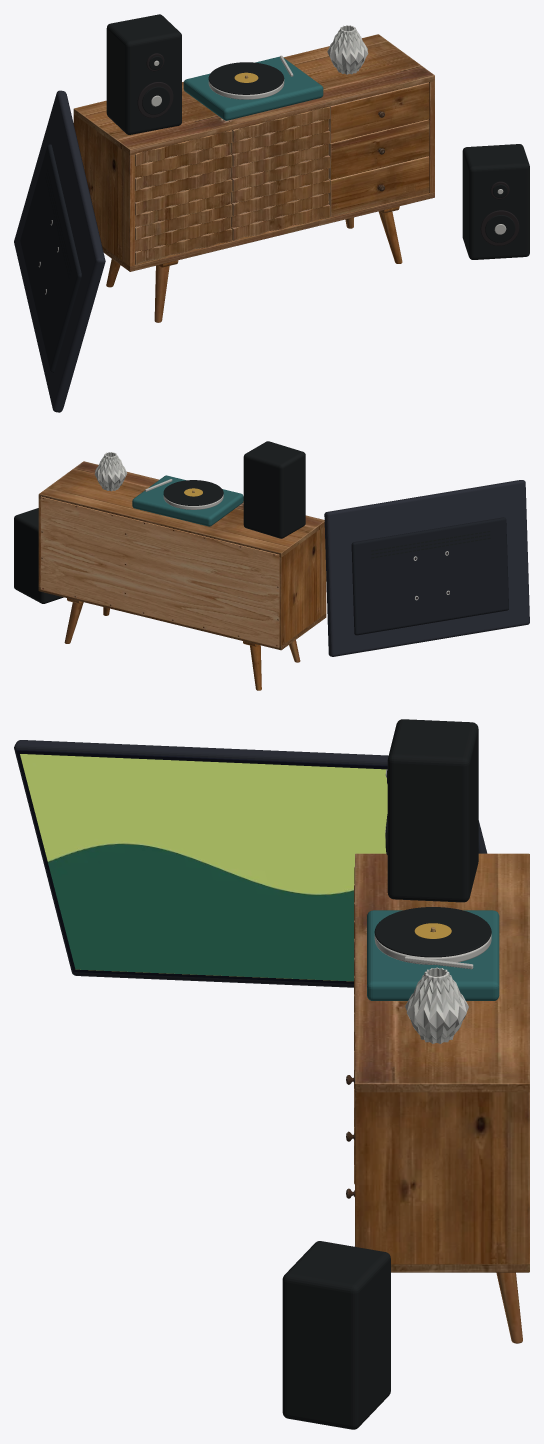
Rendered from listening.glb.
3 views of the same model, one above another, from view 1: azimuth 30°, elevation 25°; view 2: azimuth 150°, elevation 25°; view 3: azimuth 270°, elevation 25° (orthographic). The views are drawn at different scales.
Visible parts, largest first — view 1: Sideboard, TV / graphite frame.003, TV / rear enclosure.003, Monitor cabinet, Monitor cabinet.001, Turntable plinth, Vinyl, Vase, Driver cone.002, Driver cone, Driver surround.002; view 2: Sideboard, TV / graphite frame.003, TV / rear enclosure.003, Monitor cabinet, Monitor cabinet.001, Turntable plinth, Vinyl, Vase, TV / cooling louvres.003; view 3: Sideboard, TV / active picture.006, TV / active picture.007, Monitor cabinet.001, Monitor cabinet, TV / graphite frame.003, Turntable plinth, Vinyl, TV / glass surround.003, Vase.
Part boxes in pixels (x1,y1,x2,y2): Sideboard: [73, 34, 434, 322]; TV / graphite frame.003: [14, 90, 105, 412]; TV / rear enclosure.003: [20, 144, 81, 372]; Monitor cabinet: [106, 14, 181, 134]; Monitor cabinet.001: [462, 144, 529, 259]; Turntable plinth: [183, 56, 323, 120]; Vinyl: [208, 62, 284, 94]; Vase: [327, 25, 368, 74]; Driver cone.002: [485, 215, 515, 242]; Driver cone: [142, 86, 169, 114]; Driver surround.002: [480, 210, 519, 245]; Sideboard: [38, 461, 326, 690]; TV / graphite frame.003: [324, 480, 529, 656]; TV / rear enclosure.003: [351, 517, 508, 635]; Monitor cabinet: [243, 441, 305, 538]; Monitor cabinet.001: [14, 508, 63, 603]; Turntable plinth: [132, 475, 243, 526]; Vinyl: [163, 480, 223, 505]; Vase: [94, 452, 127, 491]; TV / cooling louvres.003: [371, 531, 490, 558]; Sideboard: [346, 853, 529, 1343]; TV / active picture.006: [20, 754, 291, 978]; TV / active picture.007: [236, 763, 387, 981]; Monitor cabinet.001: [282, 1241, 390, 1429]; Monitor cabinet: [387, 719, 478, 902]; TV / graphite frame.003: [14, 740, 487, 987]; Turntable plinth: [367, 910, 499, 1000]; Vinyl: [374, 907, 491, 957]; TV / glass surround.003: [16, 749, 387, 983]; Vase: [405, 967, 468, 1043].
Bounding box in the file's own units: 10.25 × 4.84 × 5.3.
13 materials, 4 textured.
